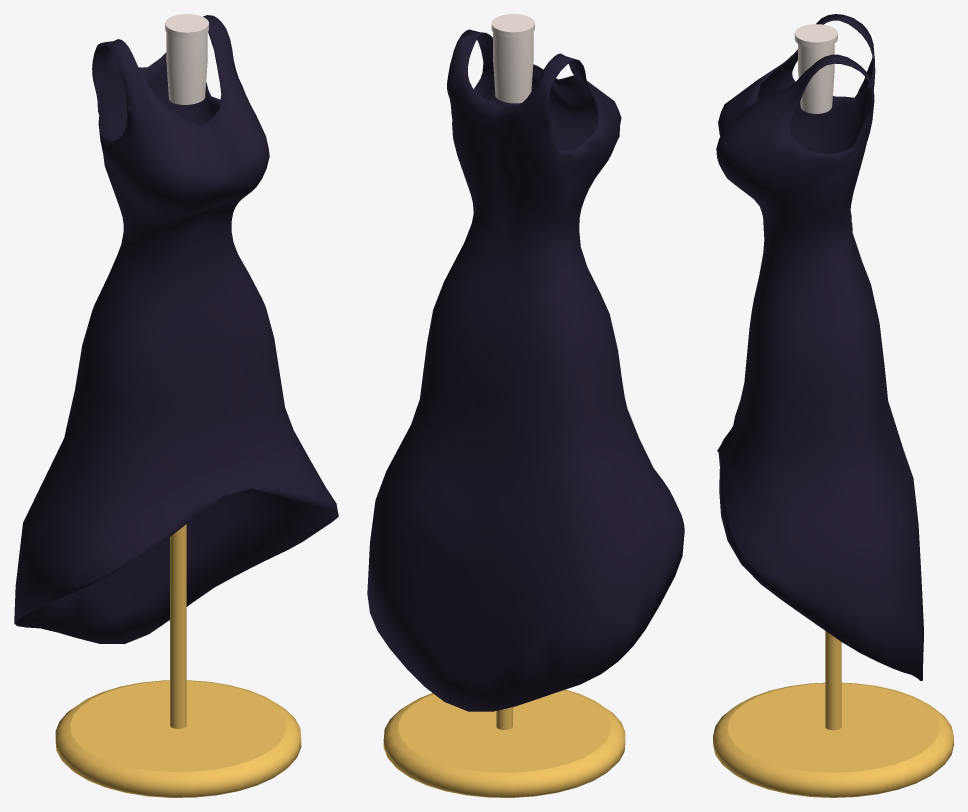
File: rain.dress.black-highlow.glb
The picture shows the model from 3 angles, left to right: view 1: azimuth 30°, elevation 25°; view 2: azimuth 150°, elevation 25°; view 3: azimuth 270°, elevation 25°; orthographic projection. The views are drawn at different scales.
Parts seen in each view (by area): view 1: Tailored.Dress.black-highlow.Fabric, stand_base, stand_stem, stand_torso, stand_neck_cap; view 2: Tailored.Dress.black-highlow.Fabric, stand_base, stand_torso, stand_neck_cap; view 3: Tailored.Dress.black-highlow.Fabric, stand_base, stand_torso, stand_stem, stand_neck_cap.
Boxes of the visible parts, x1,y1,x2,y2 form: Tailored.Dress.black-highlow.Fabric: (14, 15, 338, 644); stand_base: (55, 680, 301, 797); stand_stem: (170, 524, 186, 728); stand_torso: (166, 32, 207, 104); stand_neck_cap: (165, 14, 208, 38); Tailored.Dress.black-highlow.Fabric: (367, 29, 684, 711); stand_base: (383, 689, 625, 797); stand_torso: (493, 32, 533, 103); stand_neck_cap: (491, 14, 534, 37); Tailored.Dress.black-highlow.Fabric: (716, 14, 923, 680); stand_base: (713, 682, 953, 797); stand_torso: (798, 44, 834, 113); stand_stem: (825, 631, 841, 730); stand_neck_cap: (794, 24, 837, 47).
Bounding box in the file's own units: 0.3002 × 0.75 × 0.2278.
